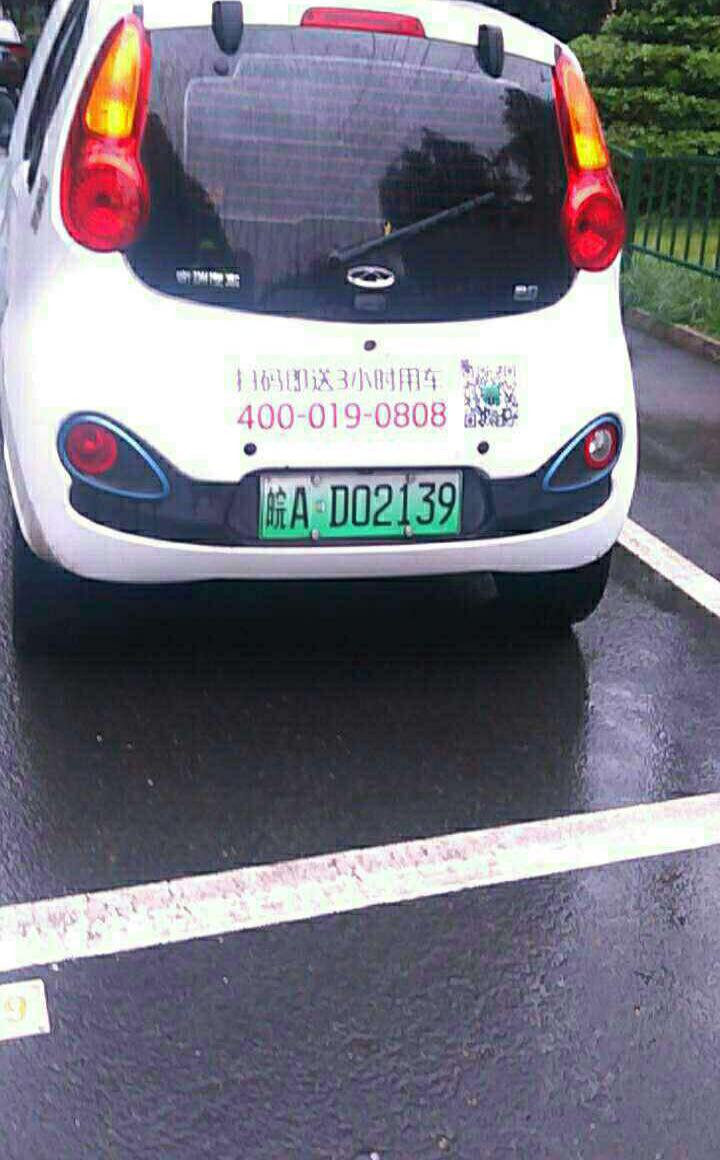car: (256, 463, 480, 540)
